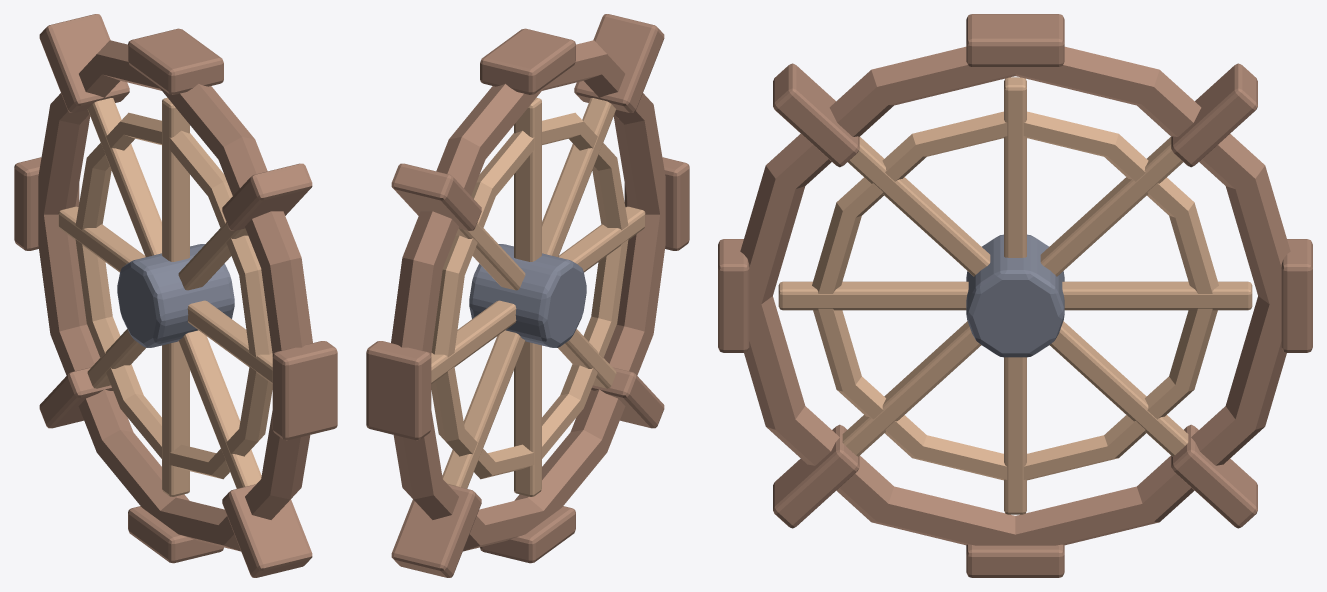
File: northern_mill_wheel.glb
3 renders of one model, left to right at view 1: azimuth 30°, elevation 25°; view 2: azimuth 150°, elevation 25°; view 3: azimuth 270°, elevation 25°, orthographic. The views are drawn at different scales.
Visible parts, largest first — view 1: northern_mill_wheel.001; view 2: northern_mill_wheel.001; view 3: northern_mill_wheel.001.
Part boxes in pixels (x1=…): northern_mill_wheel.001: x1=14, y1=14, x2=337, y2=577; northern_mill_wheel.001: x1=366, y1=14, x2=689, y2=577; northern_mill_wheel.001: x1=718, y1=14, x2=1312, y2=577.
Size of the model in its own units: 1.2 by 7.28 by 7.28.
